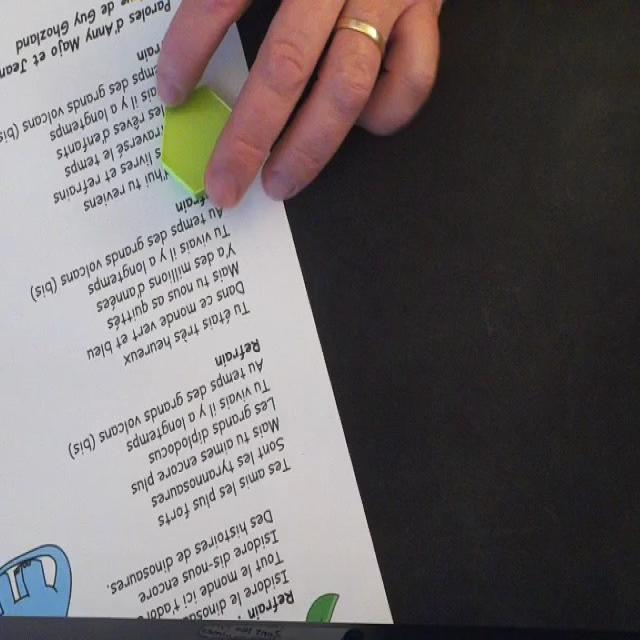hexagon: (158, 84, 245, 203)
